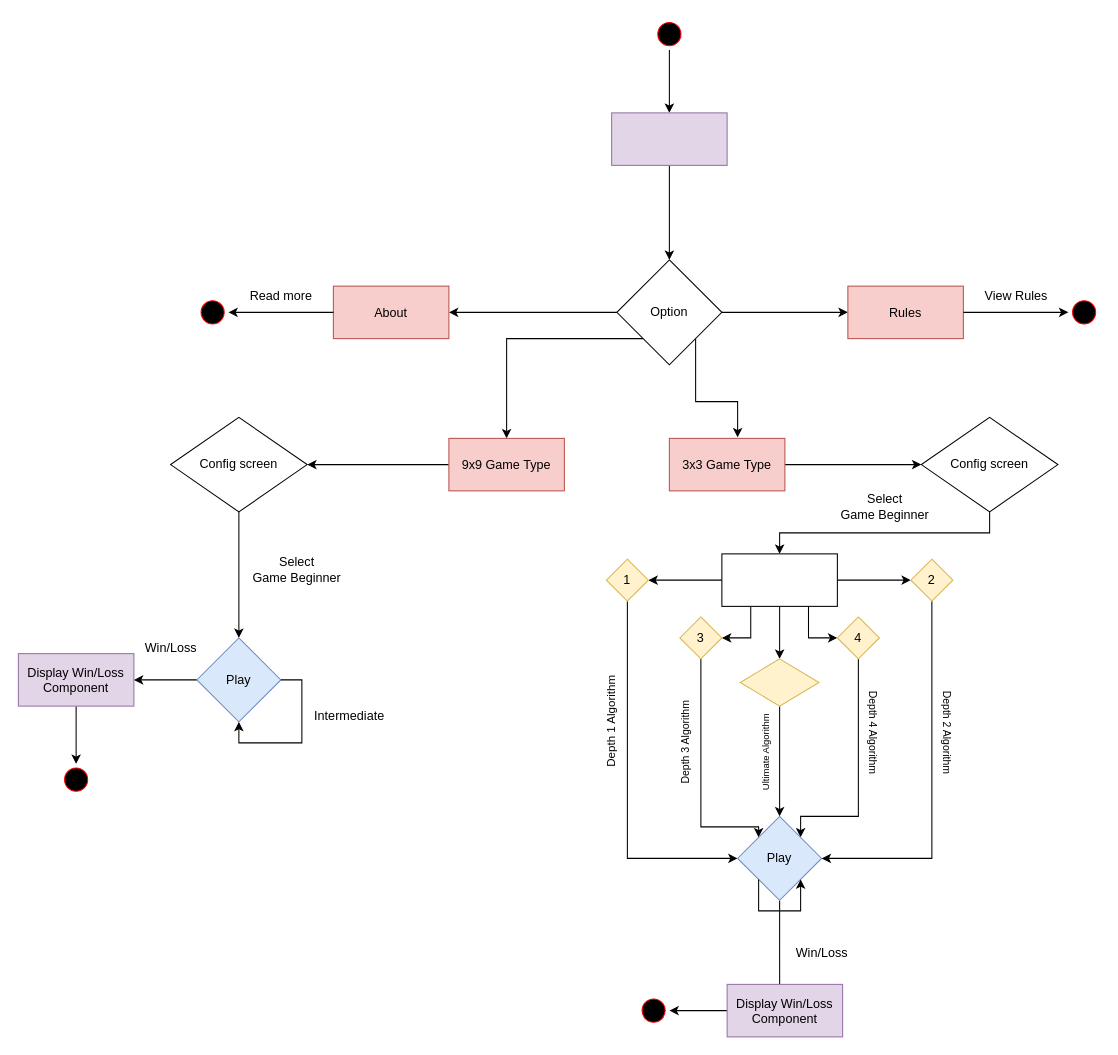
Some shapes in this 1118 by 1055 pixel diagram are drawn without their labels. The centre of each missing label's shape, as x and y in pixels:
"Choose Depth" goes at (x=779, y=579).
"Landing Screen" goes at (x=669, y=138).
"Ultimate" goes at (x=779, y=682).
